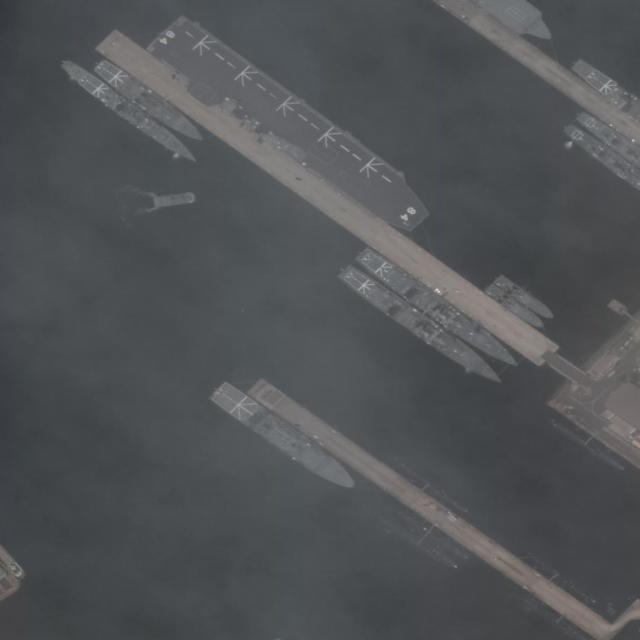Auxiliary Ships: (209, 379, 361, 496), (91, 56, 208, 147)
Destroyer: (145, 1, 434, 239), (334, 259, 509, 392), (352, 242, 526, 375), (58, 54, 201, 169)
Dock: (96, 24, 580, 385), (249, 375, 606, 639)
Other Ship: (151, 190, 197, 209)
Submarine: (522, 551, 617, 618), (378, 515, 461, 569), (390, 460, 469, 514), (394, 508, 471, 560), (552, 420, 628, 472)
